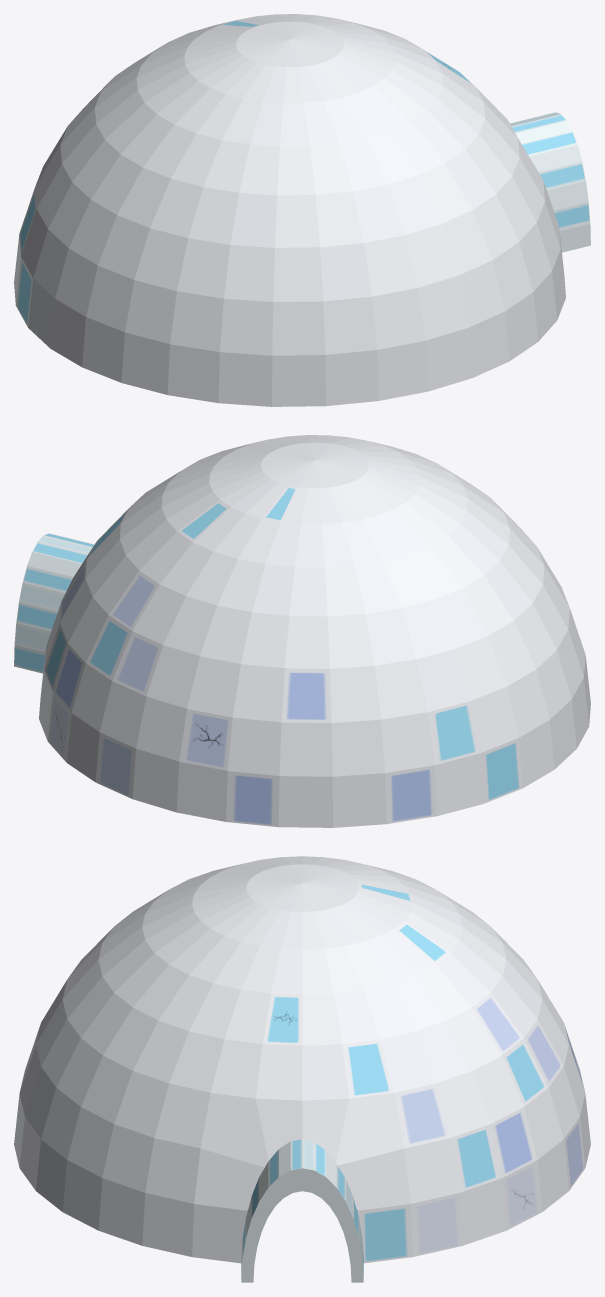
File: igloo.gltf
3 views of the same model, one above another, from view 1: azimuth 30°, elevation 25°; view 2: azimuth 150°, elevation 25°; view 3: azimuth 270°, elevation 25° (orthographic). The views are drawn at different scales.
Visible parts, largest first — view 1: Sphere.001, Cylinder.001; view 2: Sphere.001, Cylinder.001; view 3: Sphere.001, Cylinder.001.
Boxes of the visible parts, bbox=[...] form: Sphere.001: bbox=[14, 14, 565, 406]; Cylinder.001: bbox=[510, 112, 590, 252]; Sphere.001: bbox=[39, 435, 590, 827]; Cylinder.001: bbox=[14, 533, 94, 673]; Sphere.001: bbox=[14, 856, 590, 1263]; Cylinder.001: bbox=[241, 1139, 363, 1282].
Size of the model in its own units: 21.33 by 10.01 by 20.
3 materials, 3 textured.
